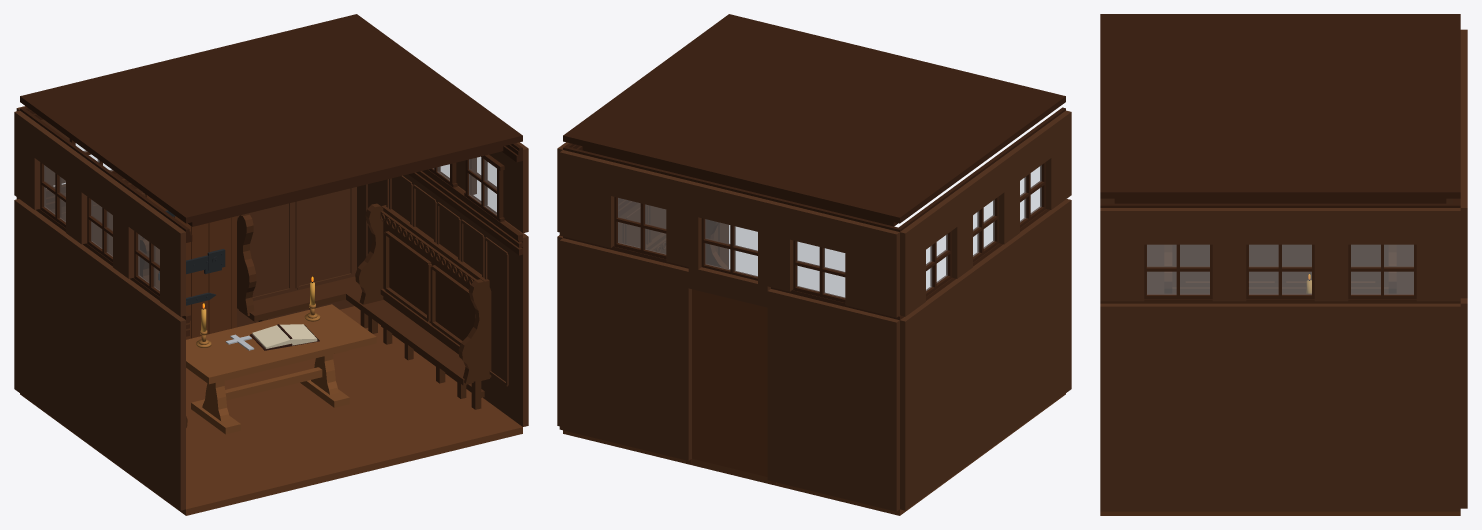
Rendered from realm-mvp-sanctuary-v1-r2-batched-meshopt.glb.
The picture shows the model from 3 angles, left to right: view 1: azimuth 30°, elevation 25°; view 2: azimuth 150°, elevation 25°; view 3: azimuth 270°, elevation 25°; orthographic projection. The views are drawn at different scales.
Parts seen in each view (by area): view 1: HF01_D84_StaticBatch_7, HF01_D84_StaticBatch_2, HF01_D84_StaticBatch_6, HF01_D84_StaticBatch_1, HF01_D84_StaticBatch_0, HF01_PrayerTable__Table_Top, HF01_D84_StaticBatch_3, HF01_DoorStaticWorld__Door_North_Slab, HF01_D84_StaticBatch_4, HF01_D84_StaticBatch_5, HF01_PrayerTable, HF01_PrayerTable__Table_LongStretcher (+2 smaller); view 2: HF01_D84_StaticBatch_7, HF01_D84_StaticBatch_2, HF01_DoorStaticWorld__Door_North_Slab, HF01_D84_StaticBatch_4, HF01_D84_StaticBatch_3, HF01_D84_StaticBatch_6, HF01_D84_StaticBatch_5; view 3: HF01_D84_StaticBatch_7, HF01_D84_StaticBatch_2, HF01_D84_StaticBatch_4, HF01_D84_StaticBatch_1, HF01_D84_StaticBatch_3, HF01_D84_StaticBatch_6, HF01_D84_StaticBatch_5, HF01_D84_StaticBatch_0.
Part boxes in pixels (<box>): HF01_D84_StaticBatch_7: <box>14,106,528,510</box>; HF01_D84_StaticBatch_2: <box>20,14,522,242</box>; HF01_D84_StaticBatch_6: <box>20,306,522,515</box>; HF01_D84_StaticBatch_1: <box>258,205,489,409</box>; HF01_D84_StaticBatch_0: <box>140,203,491,427</box>; HF01_PrayerTable__Table_Top: <box>186,304,376,384</box>; HF01_D84_StaticBatch_3: <box>40,139,504,296</box>; HF01_DoorStaticWorld__Door_North_Slab: <box>152,199,230,339</box>; HF01_D84_StaticBatch_4: <box>44,143,496,290</box>; HF01_D84_StaticBatch_5: <box>36,169,522,336</box>; HF01_PrayerTable: <box>191,350,349,434</box>; HF01_PrayerTable__Table_LongStretcher: <box>225,367,322,400</box>; HF01_D84_StaticBatch_7: <box>557,110,1071,511</box>; HF01_D84_StaticBatch_2: <box>563,14,1065,231</box>; HF01_DoorStaticWorld__Door_North_Slab: <box>692,289,767,476</box>; HF01_D84_StaticBatch_4: <box>618,165,1041,297</box>; HF01_D84_StaticBatch_3: <box>613,162,1045,302</box>; HF01_D84_StaticBatch_6: <box>563,393,1065,515</box>; HF01_D84_StaticBatch_5: <box>563,198,1049,320</box>; HF01_D84_StaticBatch_7: <box>1100,29,1467,511</box>; HF01_D84_StaticBatch_2: <box>1100,14,1460,207</box>; HF01_D84_StaticBatch_4: <box>1147,245,1413,294</box>; HF01_D84_StaticBatch_1: <box>1172,244,1388,293</box>; HF01_D84_StaticBatch_3: <box>1144,244,1416,299</box>; HF01_D84_StaticBatch_6: <box>1100,511,1460,515</box>; HF01_D84_StaticBatch_5: <box>1100,299,1460,303</box>; HF01_D84_StaticBatch_0: <box>1164,244,1396,293</box>.
Size of the model in its own units: 9.92 by 8.12 by 8.36.
